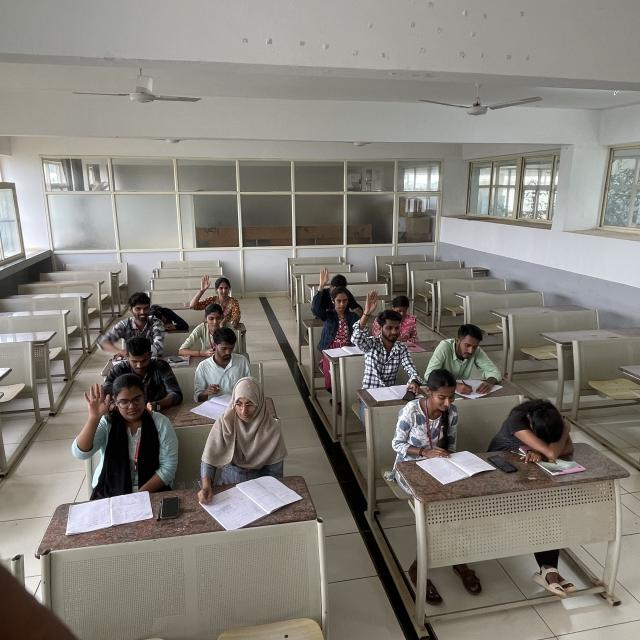Hand Rising: (70, 374, 174, 494), (355, 287, 413, 384), (309, 264, 356, 339), (190, 271, 244, 320)
Reading: (399, 373, 484, 479)
Sleeping: (493, 394, 579, 454), (152, 302, 192, 331)
Using Phone: (100, 334, 178, 406), (182, 302, 228, 358)
Writing: (188, 380, 292, 516), (426, 324, 500, 399)
